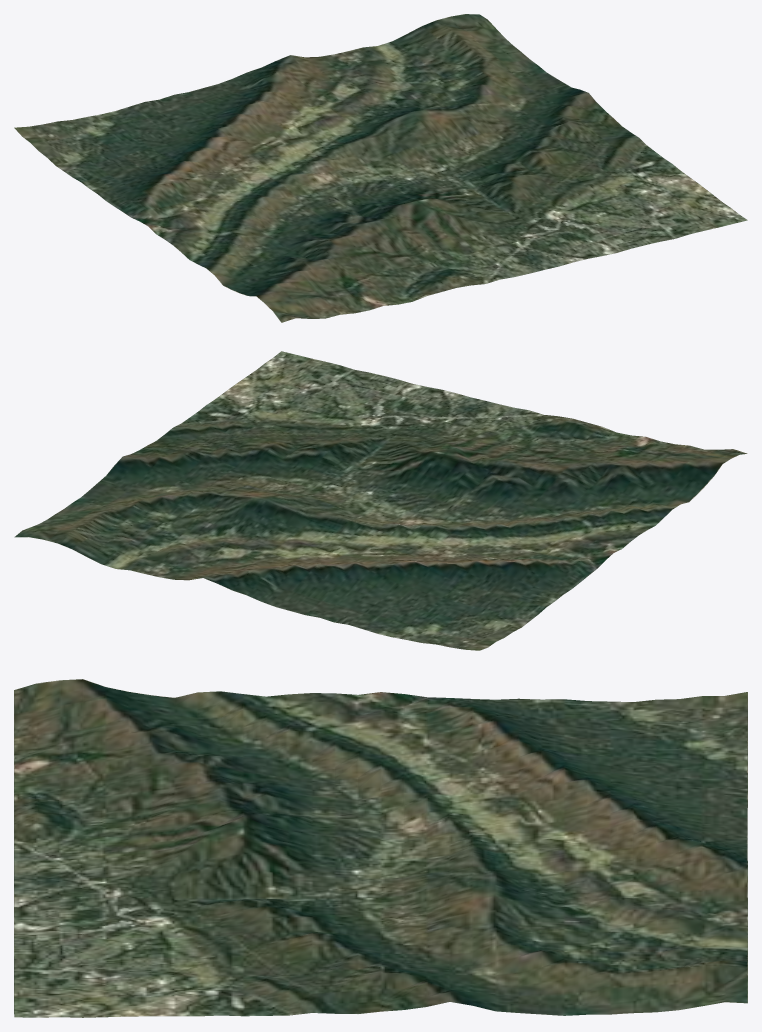
The picture shows the model from 3 angles, top to bottom: view 1: azimuth 30°, elevation 25°; view 2: azimuth 150°, elevation 25°; view 3: azimuth 270°, elevation 25°; orthographic projection. The views are drawn at different scales.
Size of the model in its own units: 15586 by 641 by 15509.
1 material, 1 textured.
